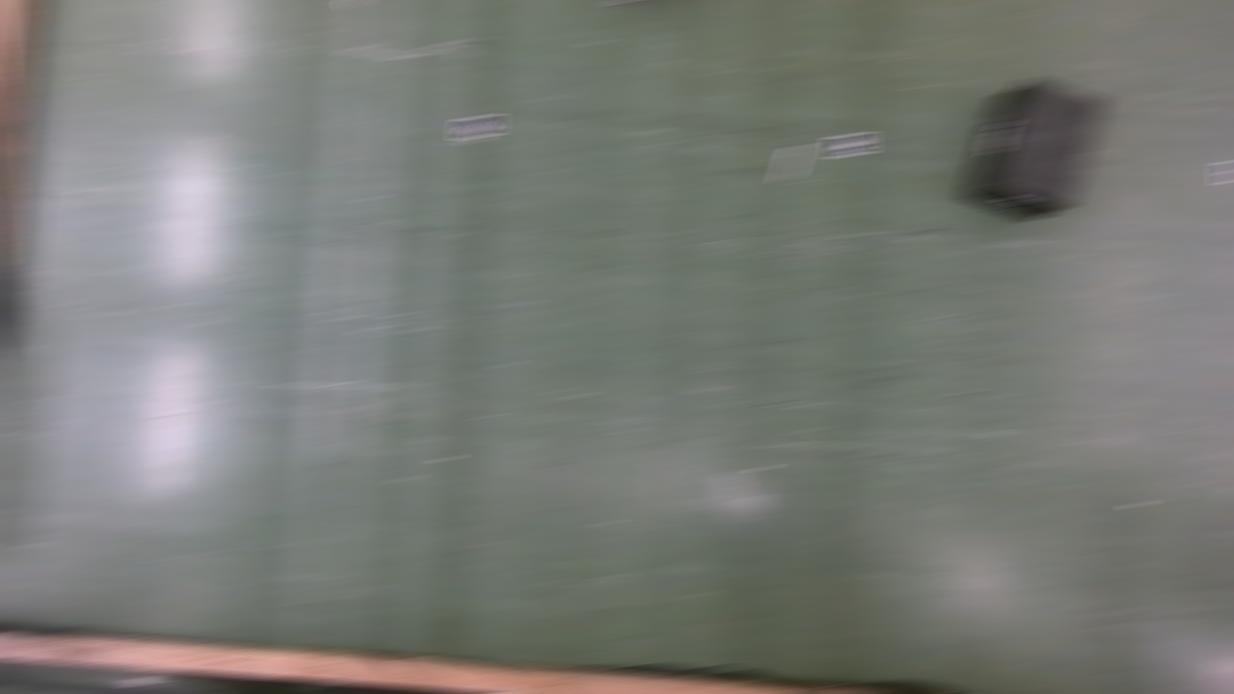probes: (778, 146, 806, 182), (329, 1, 363, 8)
rako: (962, 80, 1106, 223)
